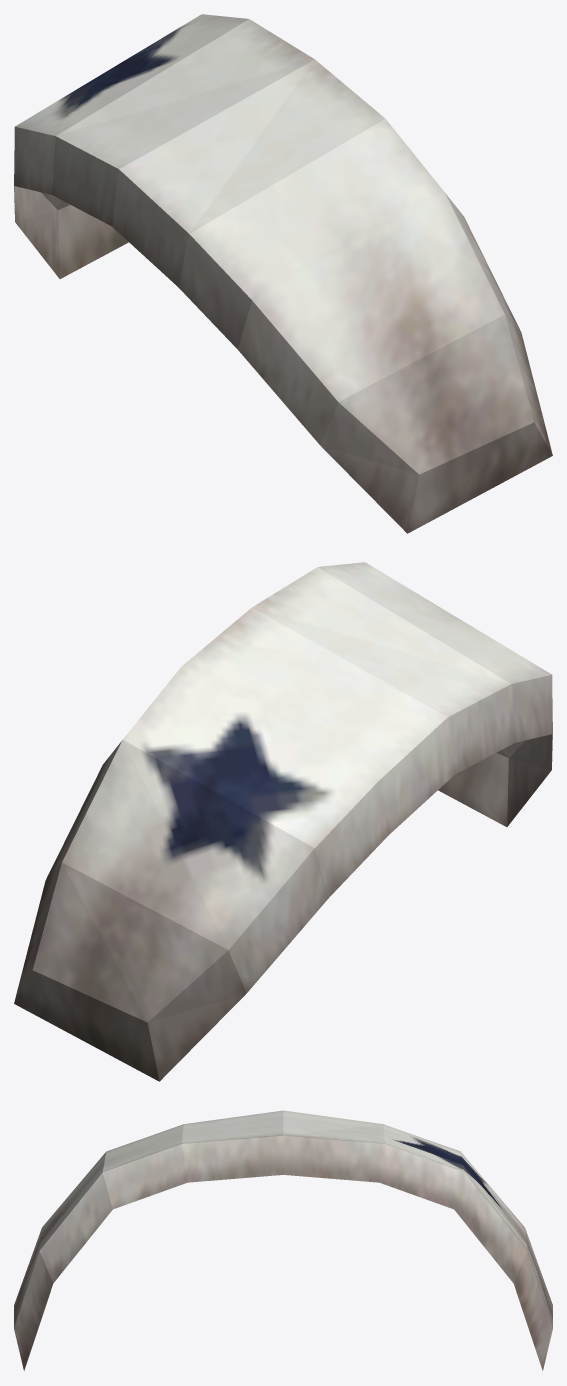
Rendered from Bison_sportBand.obj.
3 renders of one model, top to bottom at view 1: azimuth 30°, elevation 25°; view 2: azimuth 150°, elevation 25°; view 3: azimuth 270°, elevation 25°, orthographic. The views are drawn at different scales.
Visible parts, largest first — view 1: Bison_sportBand_tri; view 2: Bison_sportBand_tri; view 3: Bison_sportBand_tri.
Part boxes in pixels (bbox=[...]): Bison_sportBand_tri: bbox=[14, 14, 552, 533]; Bison_sportBand_tri: bbox=[14, 562, 552, 1081]; Bison_sportBand_tri: bbox=[14, 1110, 552, 1370].
Size of the model in its own units: 0.2191 by 0.2564 by 0.5128.
Materials: 1 (1 with a texture image).
